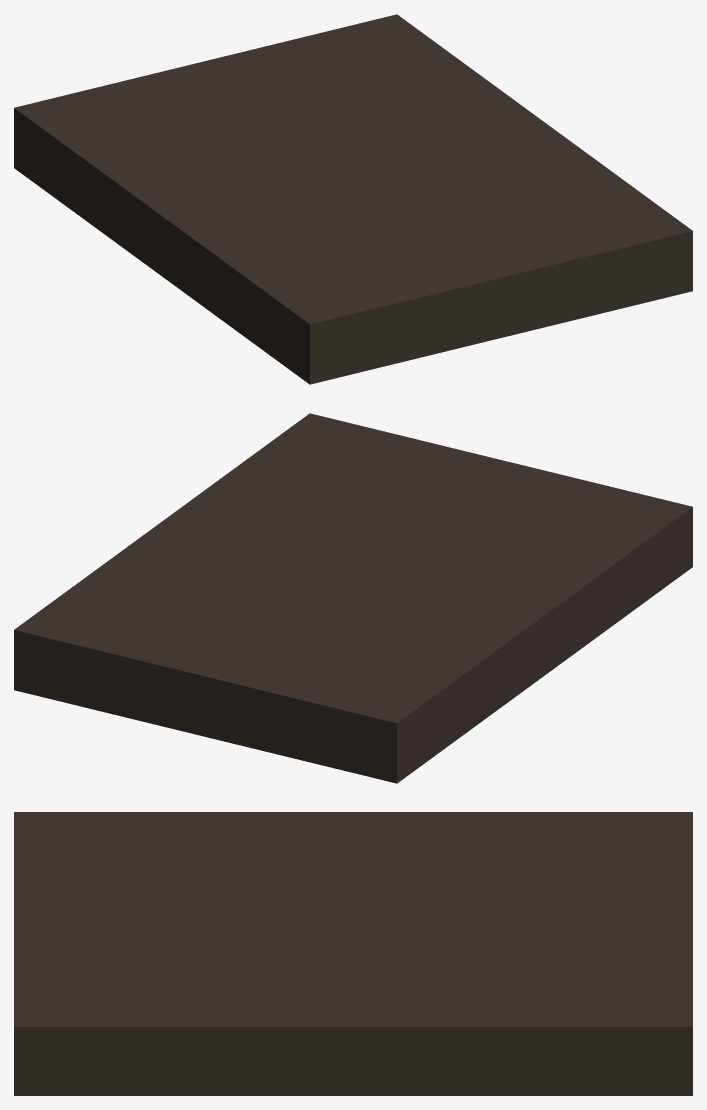
The model's file is FBX_BoxPortableCap.fbx.
3 views of the same model, one above another, from view 1: azimuth 30°, elevation 25°; view 2: azimuth 150°, elevation 25°; view 3: azimuth 270°, elevation 25° (orthographic). The views are drawn at different scales.
Visible parts, largest first — view 1: SM_BoxPortableCap; view 2: SM_BoxPortableCap; view 3: SM_BoxPortableCap.
Boxes of the visible parts, <box> form: SM_BoxPortableCap: <box>14,14,692,384</box>; SM_BoxPortableCap: <box>14,413,692,783</box>; SM_BoxPortableCap: <box>14,812,692,1095</box>.
Bounding box in the file's own units: 0.299 × 0.045 × 0.4.
